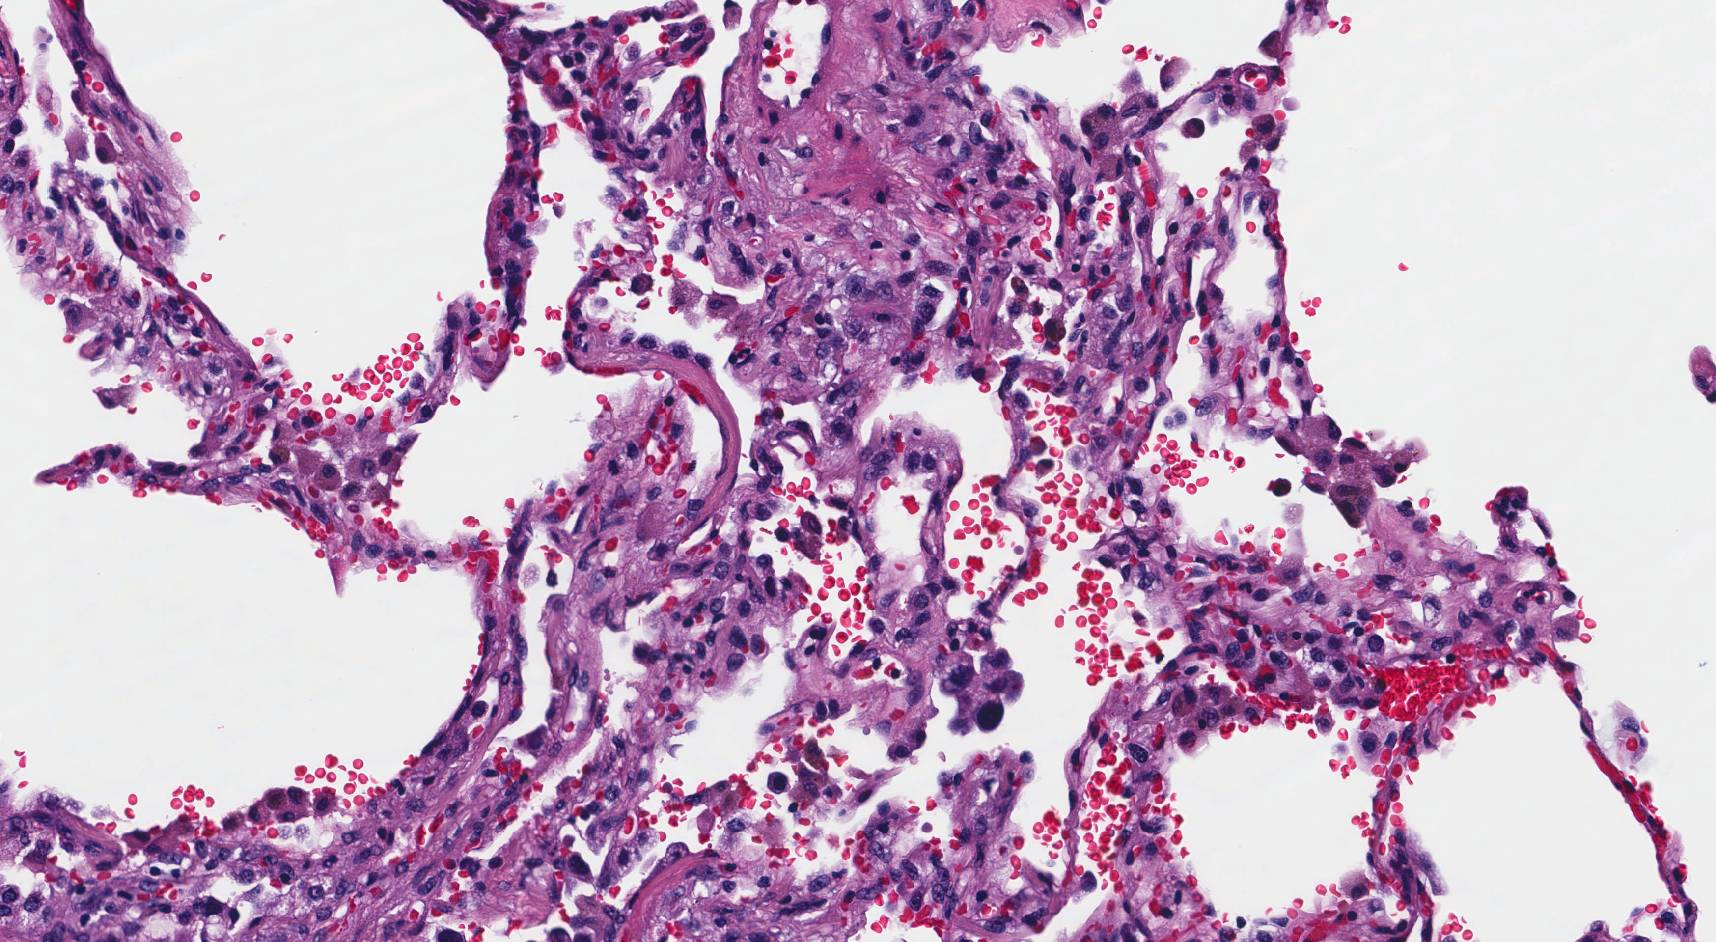stas: (941, 645, 1024, 736)
